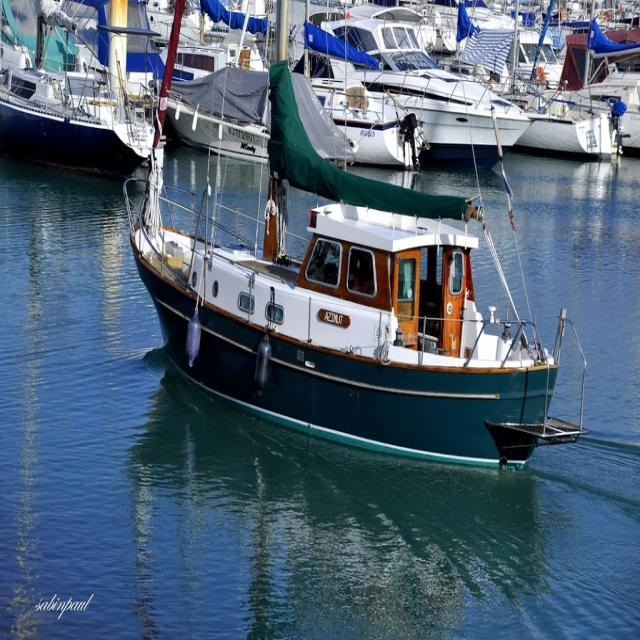Boat: (123, 0, 590, 468), (182, 2, 640, 166), (0, 20, 176, 173)
